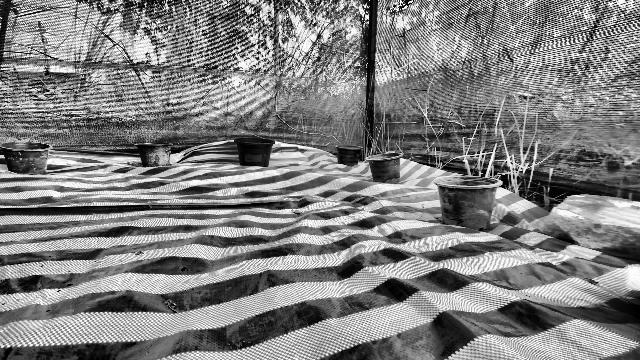pot: (432, 174, 503, 230), (0, 140, 52, 174), (234, 136, 275, 168), (365, 152, 403, 185), (135, 141, 171, 166), (333, 143, 363, 166)
